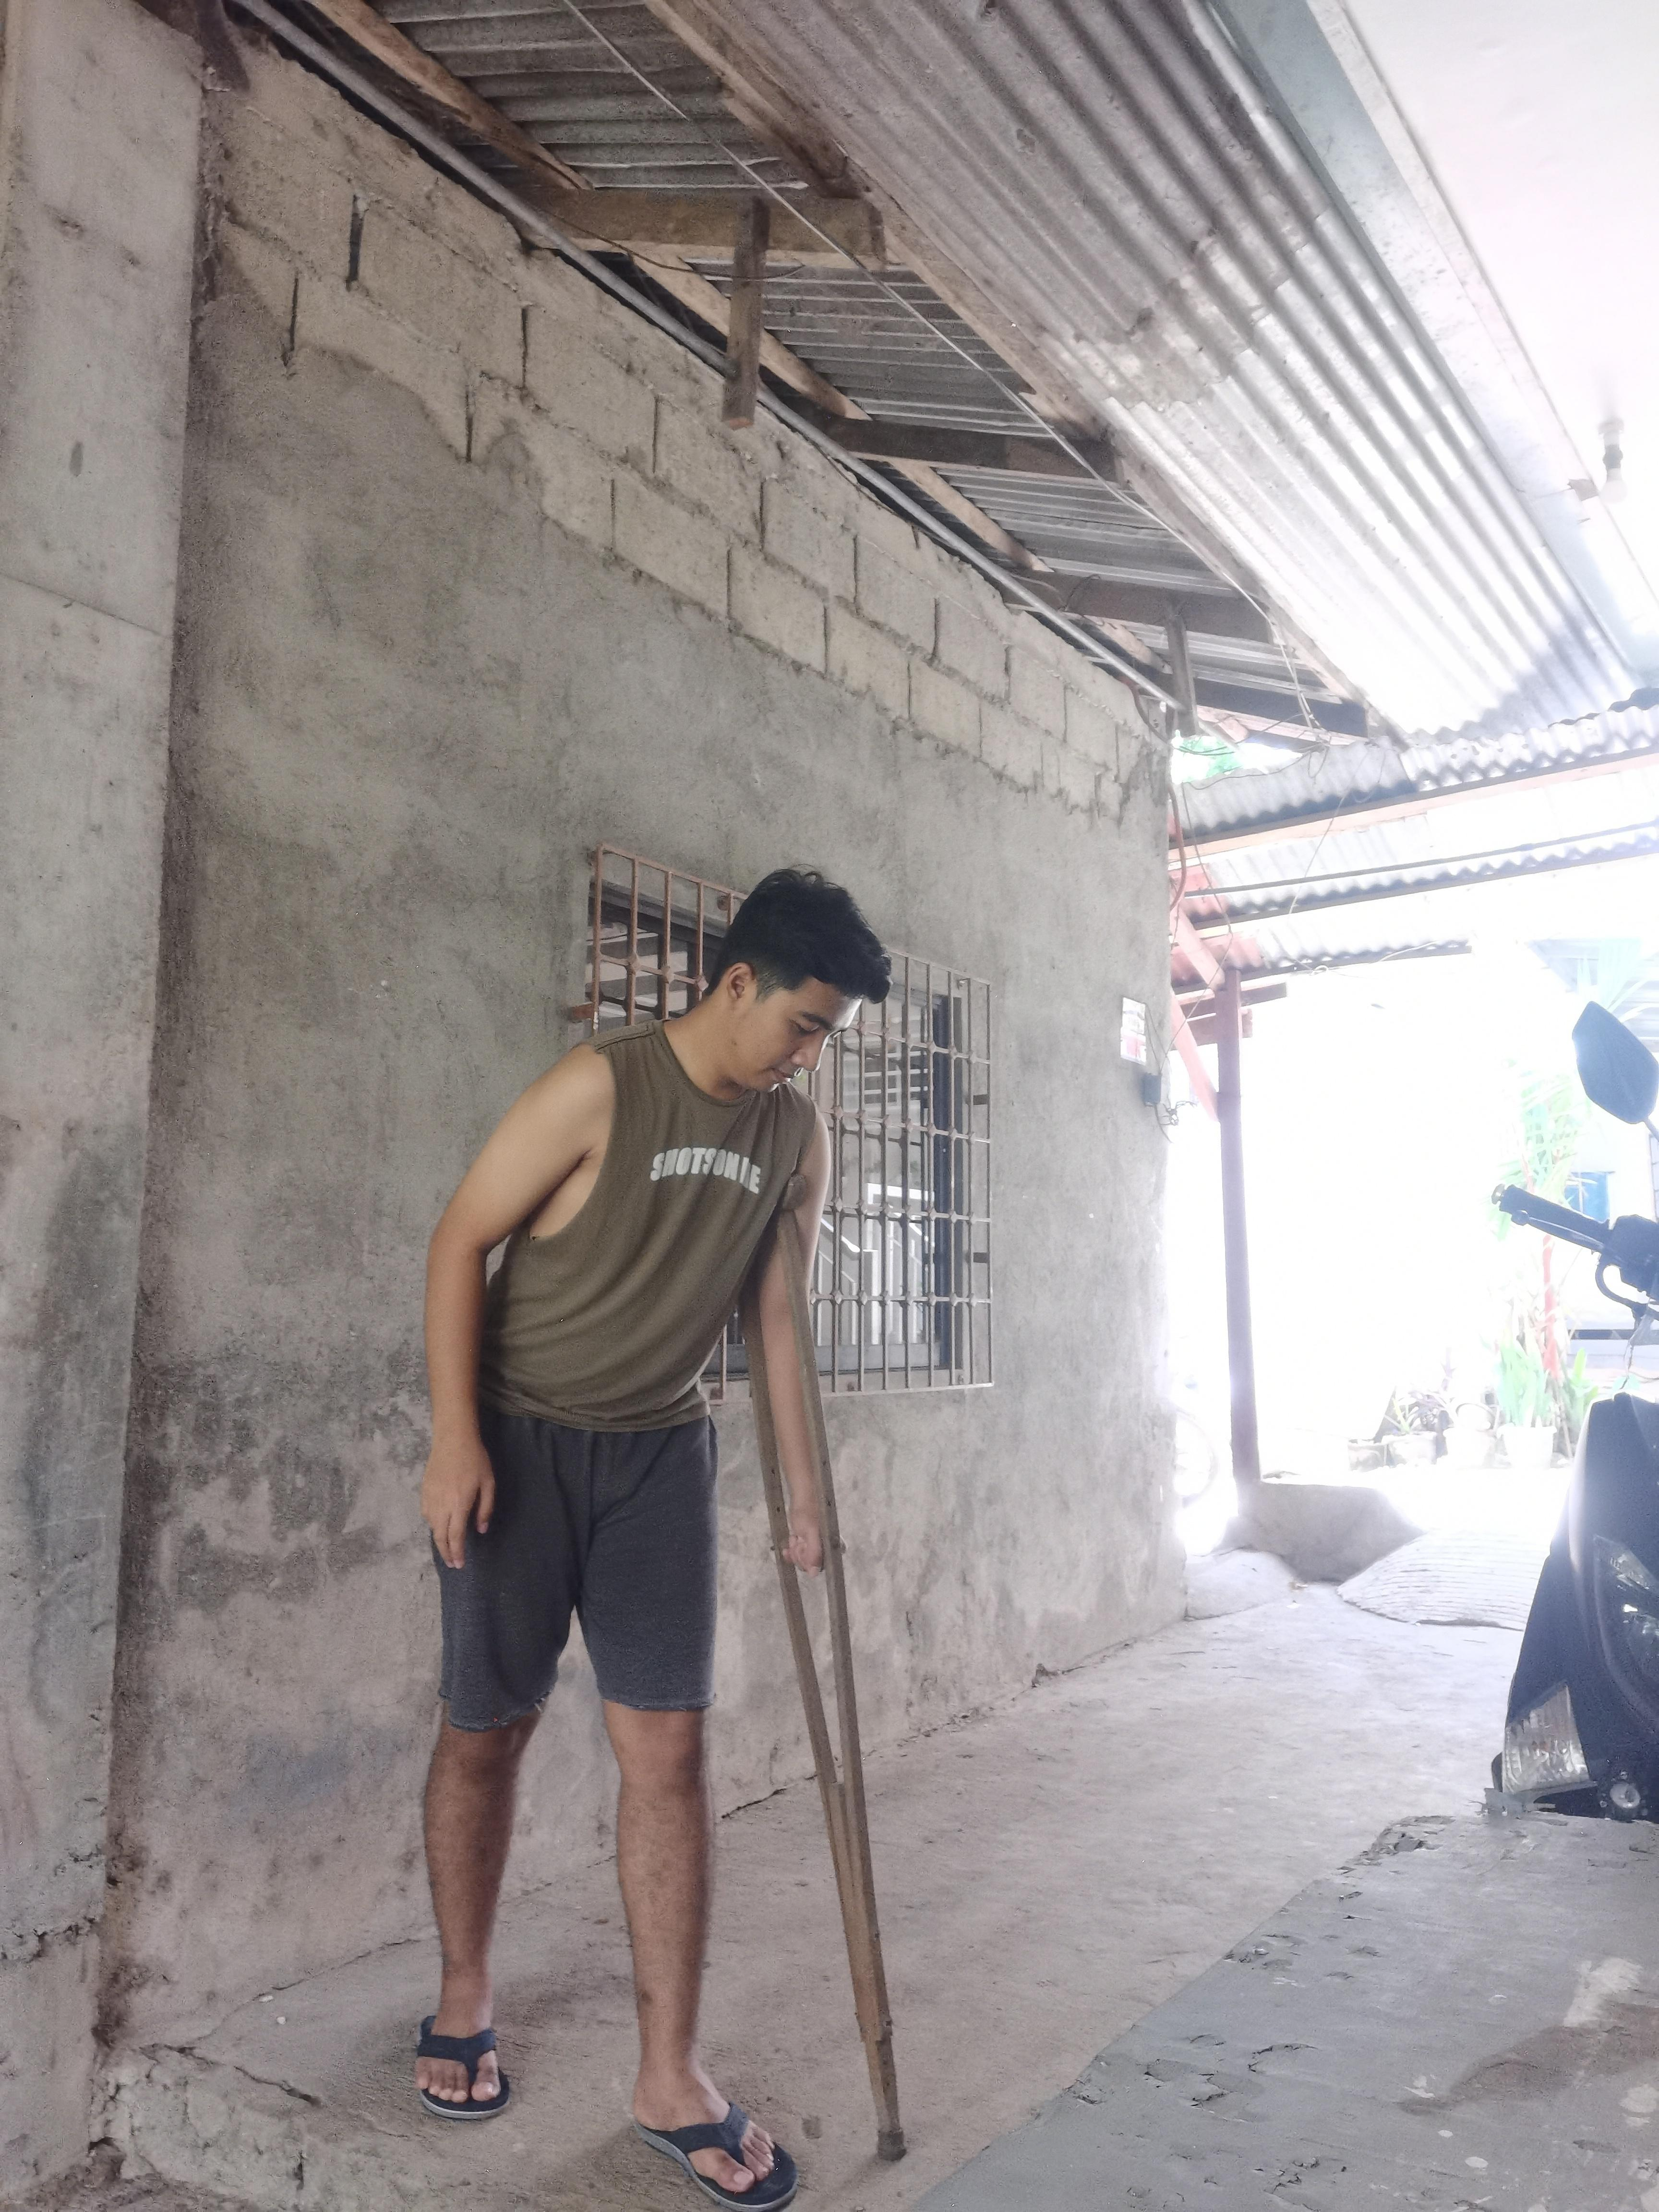crutches: (399, 850, 929, 2212)
